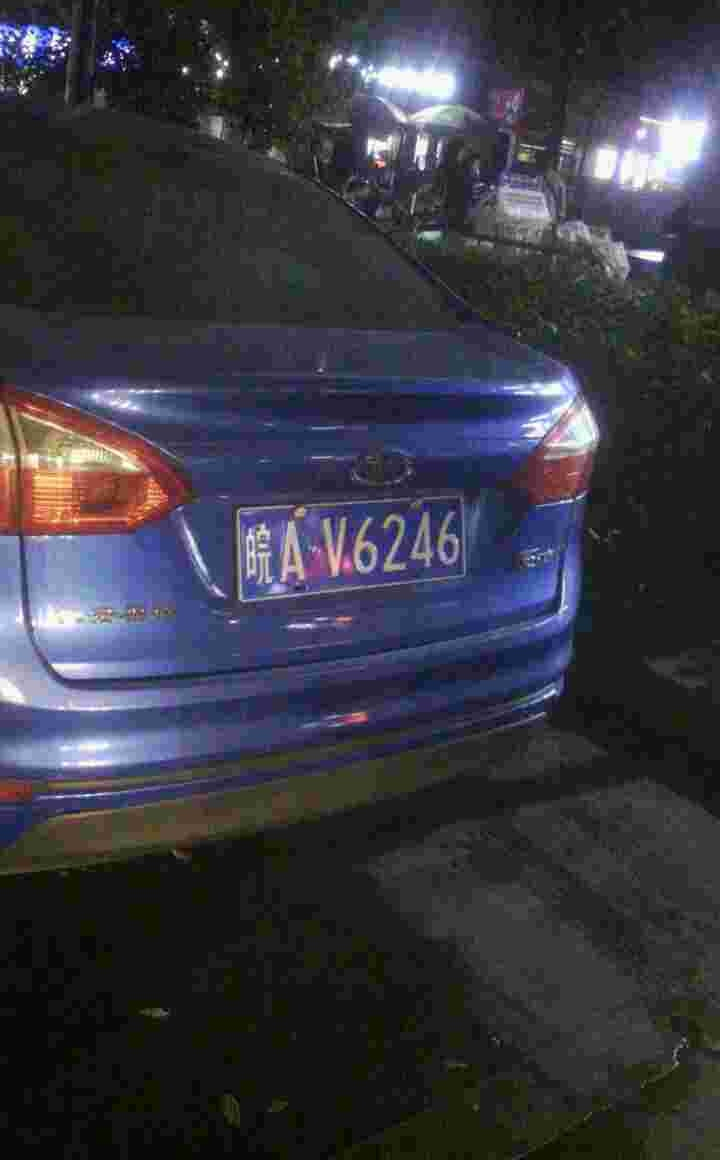car: (235, 505, 465, 590)
